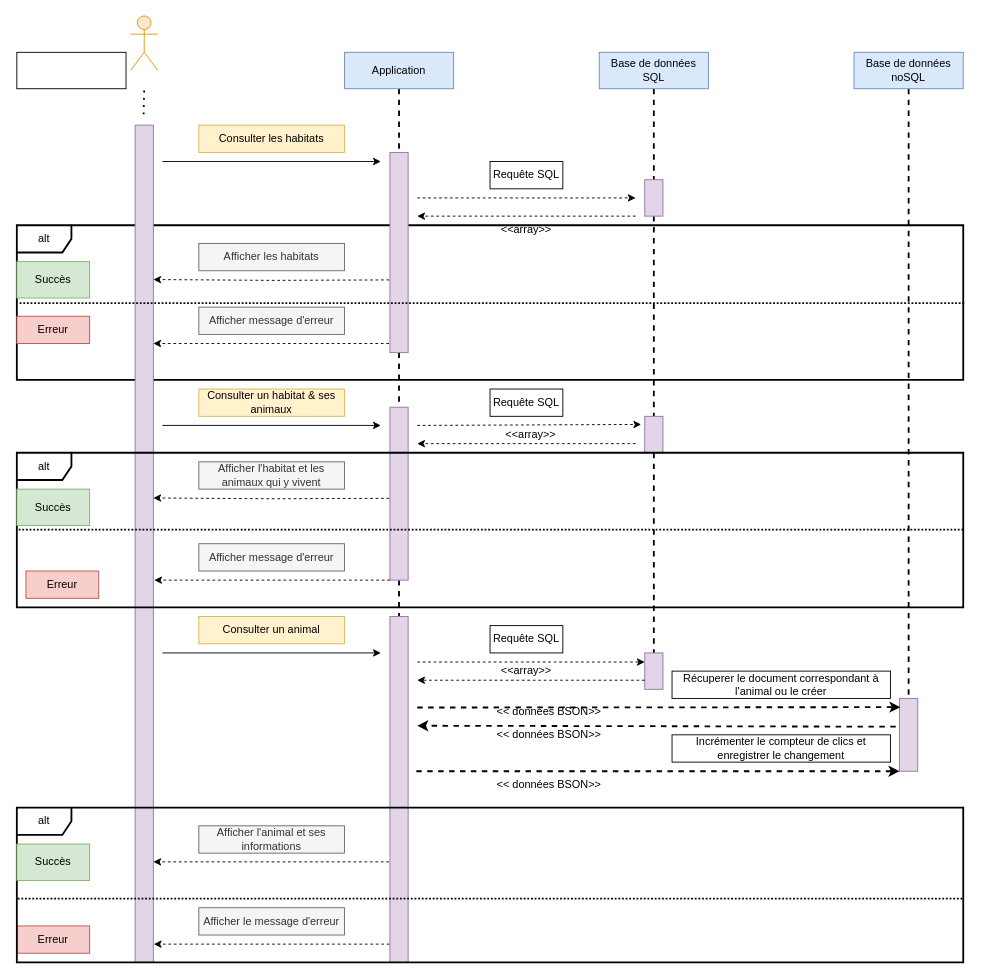
Image size: 982x979. Some labels were removed from this diagram. Here are the shapes that lost their labels. From the top down, the box of each, then its label:
(130, 15, 158, 71): Visiteur
(16, 51, 126, 89): Accéder aux informations d'un animal
